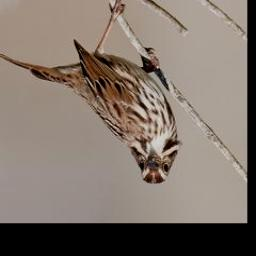Sparrow: (0, 0, 185, 186)
